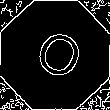O_SW: (25, 23, 85, 87)
